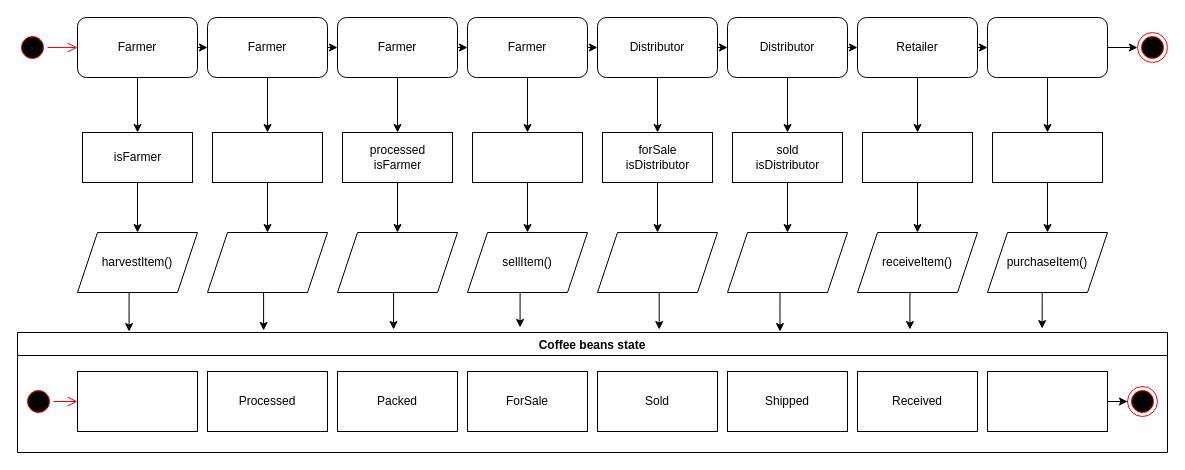
Image size: 1185x470. Some labels were removed from this diagram. Here are the shapes that lost their labels. From the top down, the centre of each, then its label:
At pixel 1047 47: "Consumer".
At pixel 267 157: "harvested isFarmer".
At pixel 527 157: "packed isFarmer".
At pixel 917 157: "shipped isRetailer".
At pixel 1047 157: "received isConsumer".
At pixel 267 262: "processItem()".
At pixel 397 262: "packItem()".
At pixel 657 262: "buyItem()".
At pixel 787 262: "shipItem()".
At pixel 137 401: "Harvested".
At pixel 1047 401: "Purchased".
